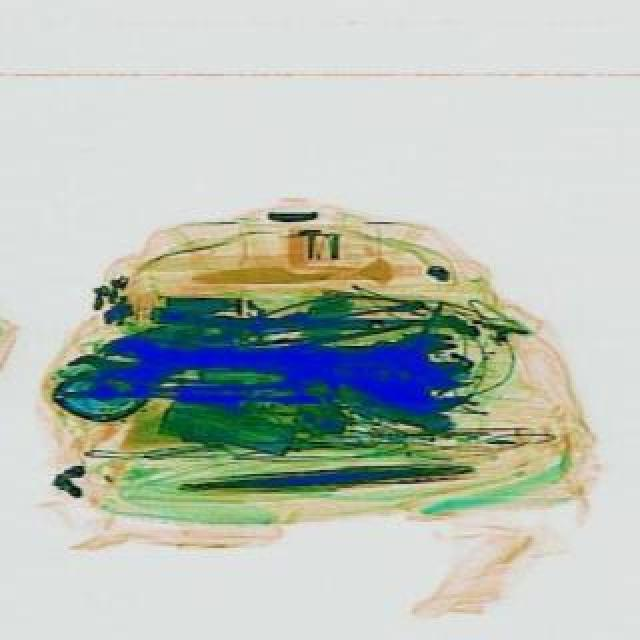scissors: (274, 320, 472, 416), (98, 334, 280, 382), (66, 352, 134, 384)
